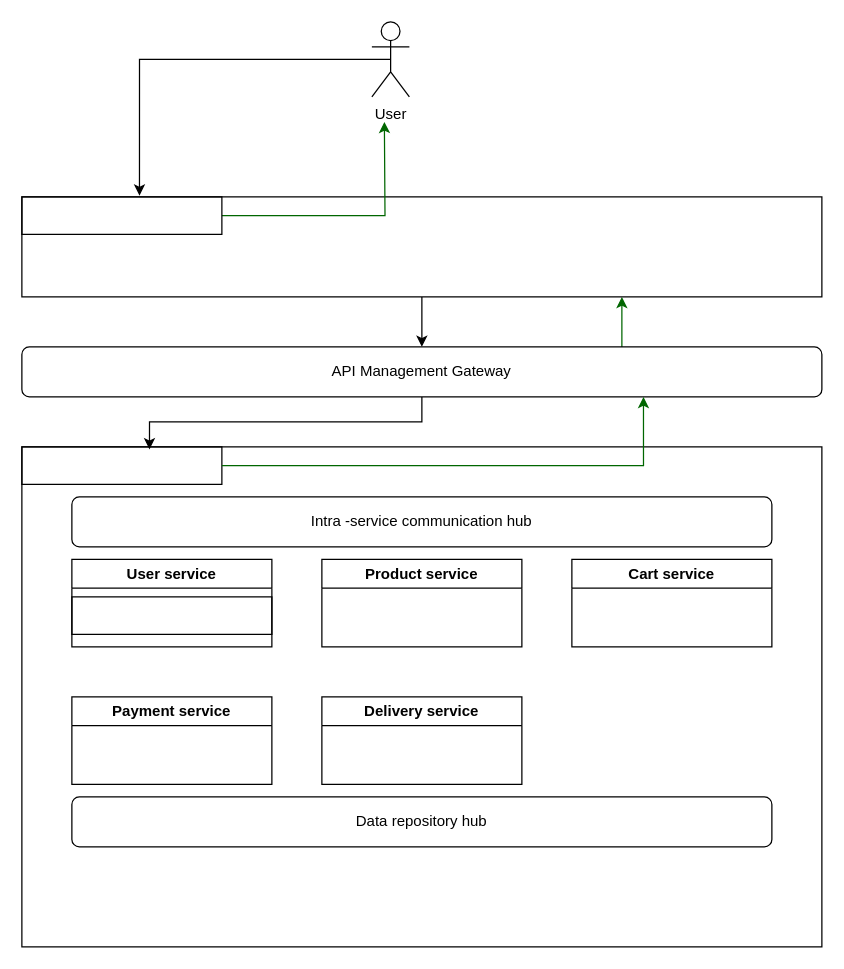
Some shapes in this 844 by 969 pixel diagram are drawn without their labels. The shapes that lost their labels are listed below. From the top down, each one's centre as x and y in pixels, then its label:
the point at 121,215: Frontend
the point at 121,465: Backend microservices
the point at 171,615: Admin, Customer, Delivery
